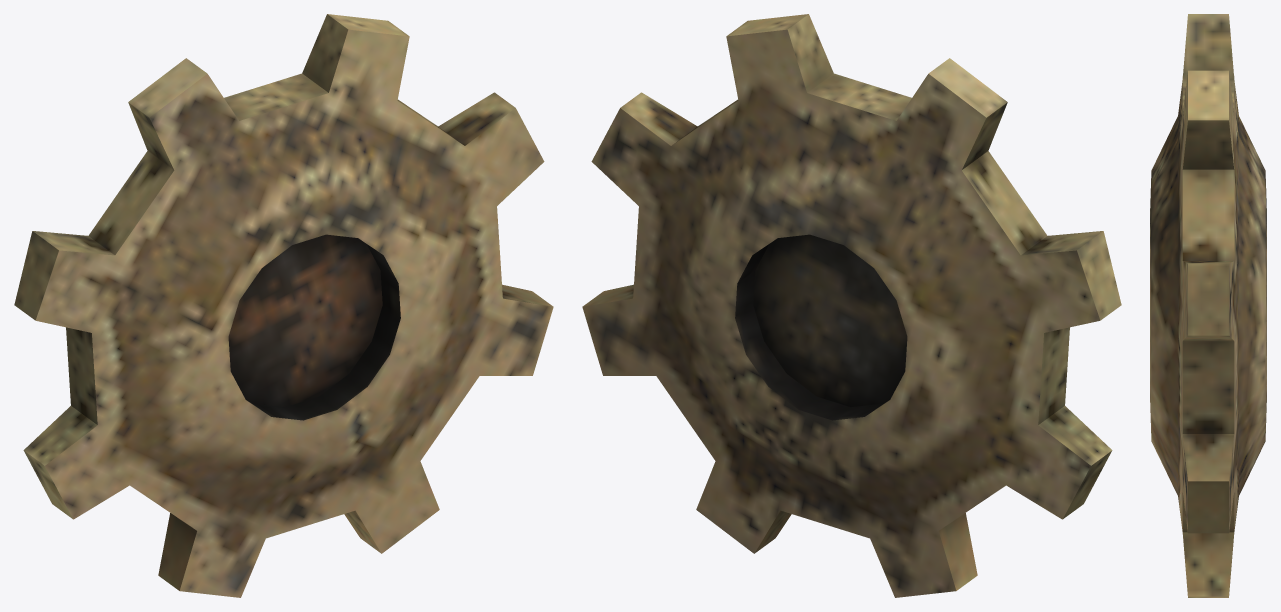
The model's file is EngranajeEnano.obj.
3 views of the same model, side by side, from view 1: azimuth 30°, elevation 25°; view 2: azimuth 150°, elevation 25°; view 3: azimuth 270°, elevation 25° (orthographic). The views are drawn at different scales.
Parts seen in each view (by area): view 1: pequeño_Material_#3; view 2: pequeño_Material_#3; view 3: pequeño_Material_#3.
Part boxes in pixels (<box>): pequeño_Material_#3: <box>14,14,553,597</box>; pequeño_Material_#3: <box>582,14,1121,597</box>; pequeño_Material_#3: <box>1150,14,1266,597</box>.
Bounding box in the file's own units: 3.07 × 3.07 × 0.6233.
